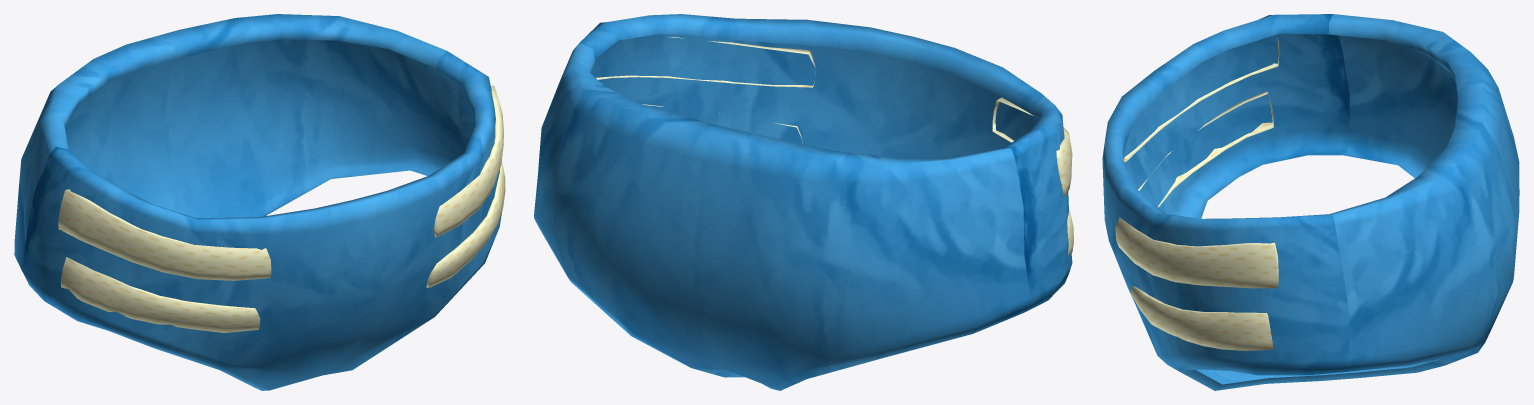
File: diaper.fbx
3 views of the same model, side by side, from view 1: azimuth 30°, elevation 25°; view 2: azimuth 150°, elevation 25°; view 3: azimuth 270°, elevation 25° (orthographic). The views are drawn at different scales.
Parts seen in each view (by area): view 1: Diepar; view 2: Diepar; view 3: Diepar.
Boxes of the visible parts, x1,y1,x2,y2 form: Diepar: (14, 14, 505, 390); Diepar: (534, 14, 1073, 390); Diepar: (1102, 14, 1519, 390).
Bounding box in the file's own units: 869 × 489 × 663.
